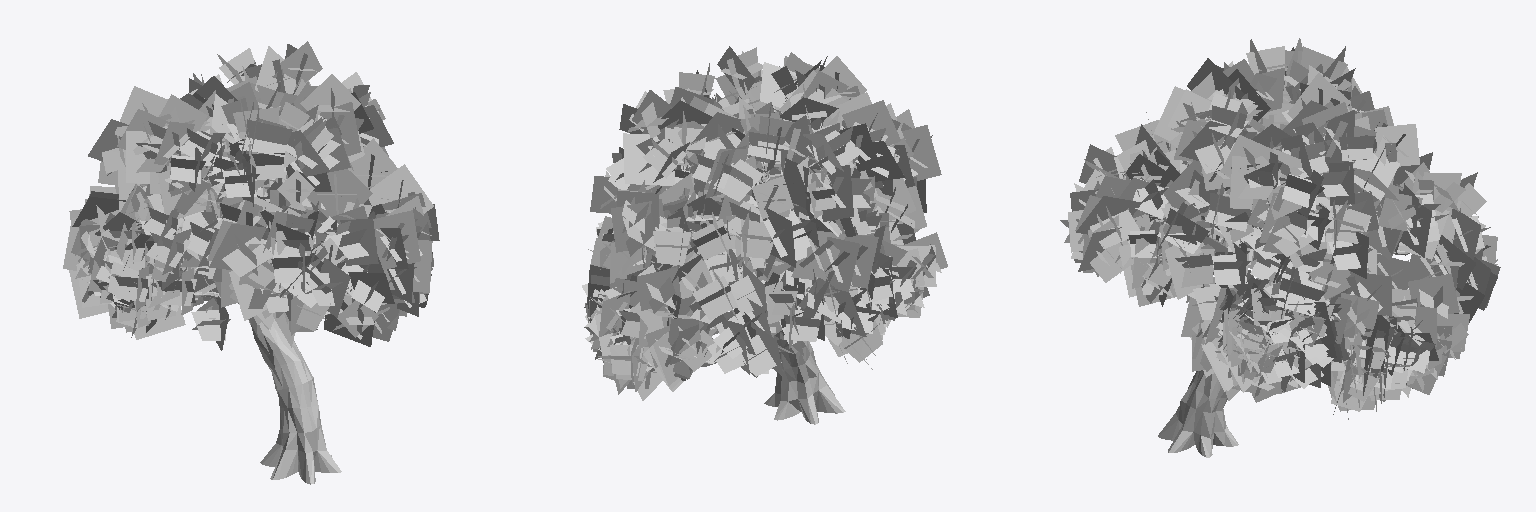
File: CherryBlossom_1.obj
3 renders of one model, left to right at view 1: azimuth 30°, elevation 25°; view 2: azimuth 150°, elevation 25°; view 3: azimuth 270°, elevation 25°, orthographic.
Visible parts, largest first — view 1: CherryBlossom_1; view 2: CherryBlossom_1; view 3: CherryBlossom_1.
Part boxes in pixels (x1,y1,x2,y2): CherryBlossom_1: (63, 41, 439, 484); CherryBlossom_1: (582, 46, 947, 424); CherryBlossom_1: (1060, 38, 1500, 457).
Bounding box in the file's own units: 12.1 × 13.38 × 14.68.